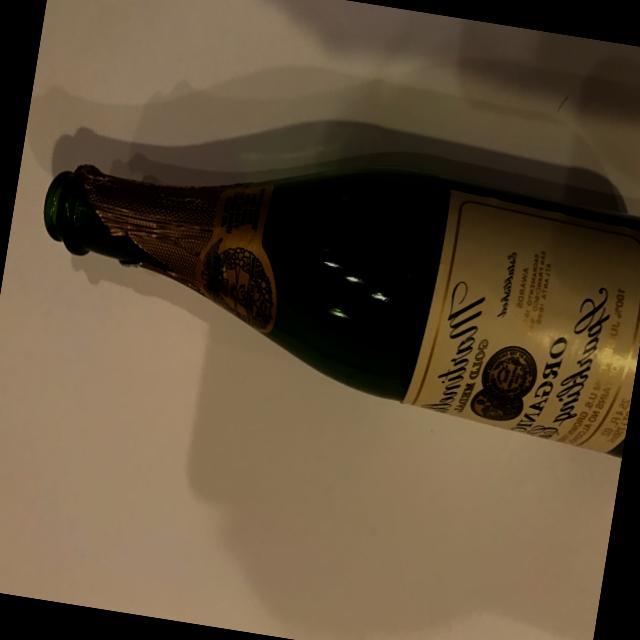Glass: (7, 100, 640, 473)
